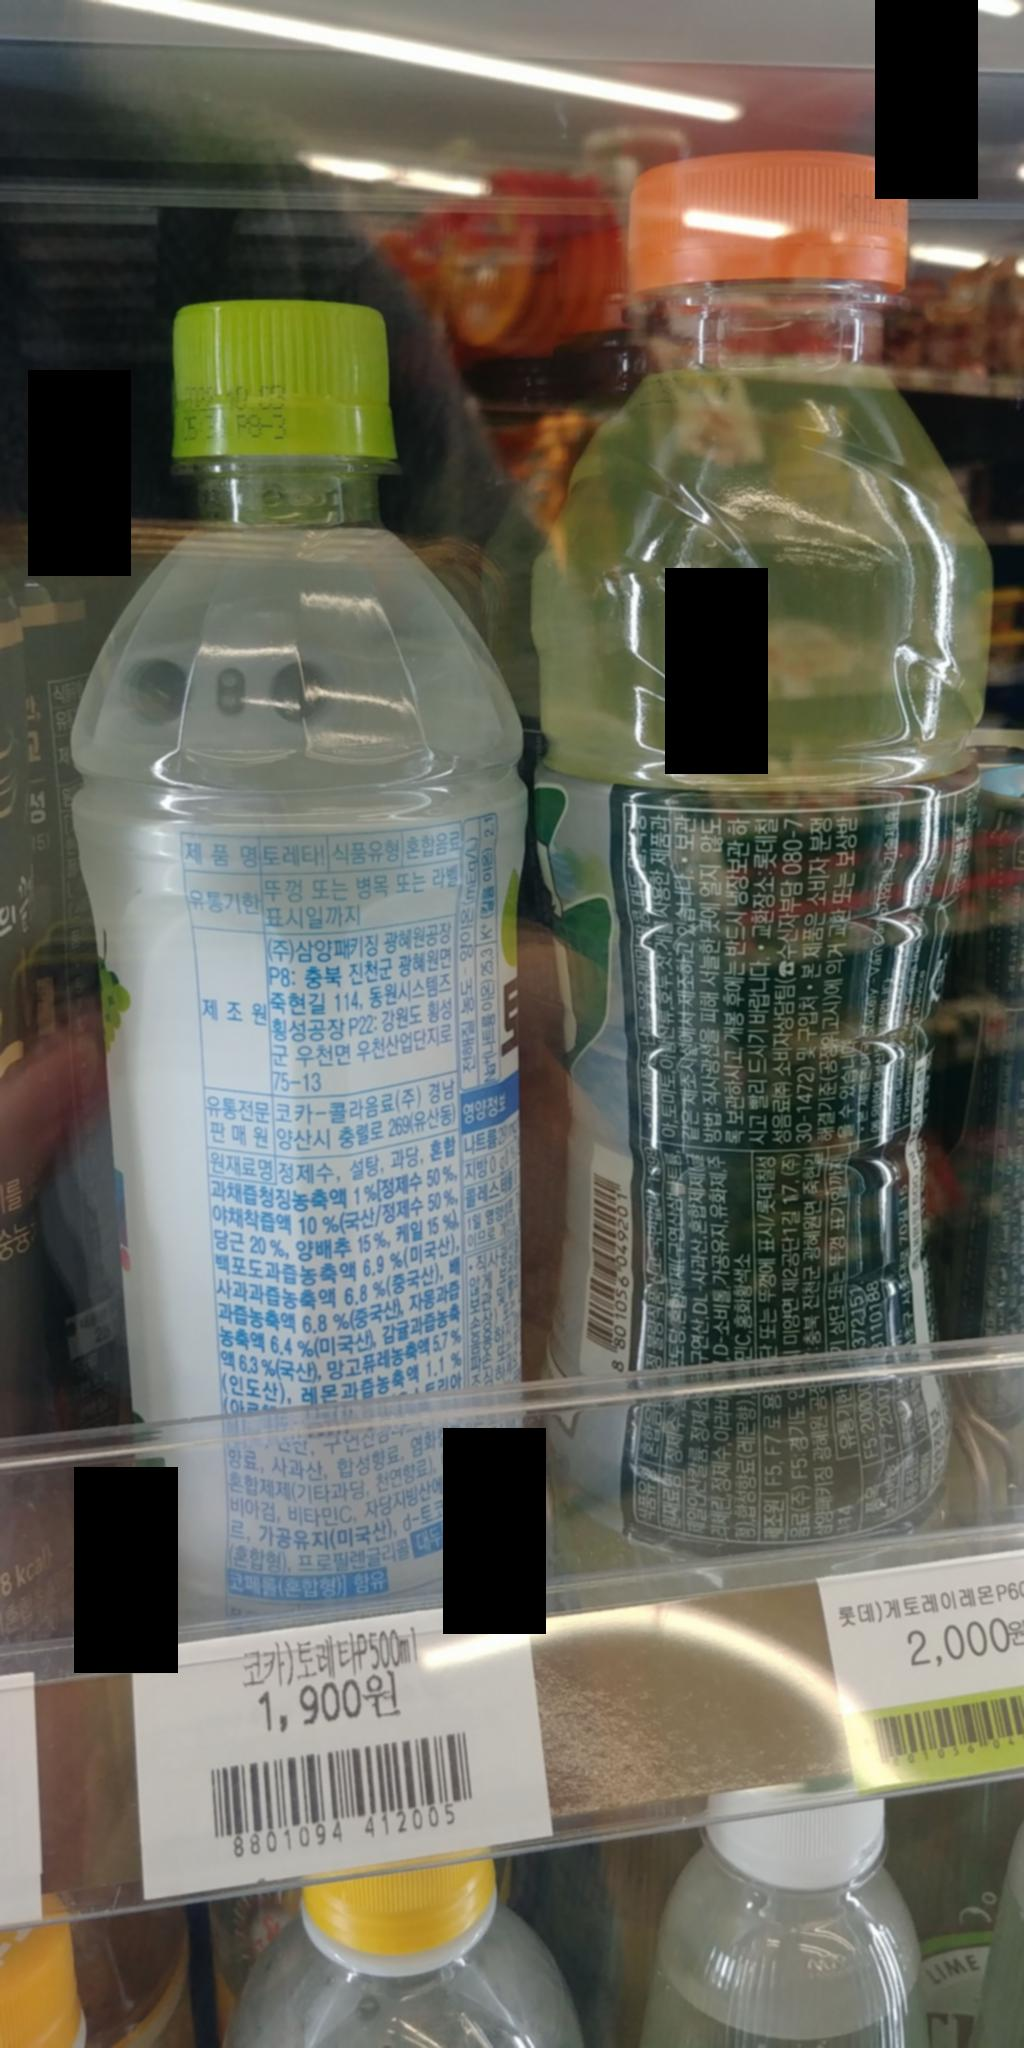gatorade_lemon: (491, 150, 1003, 1545)
toreta: (54, 278, 549, 1637)
